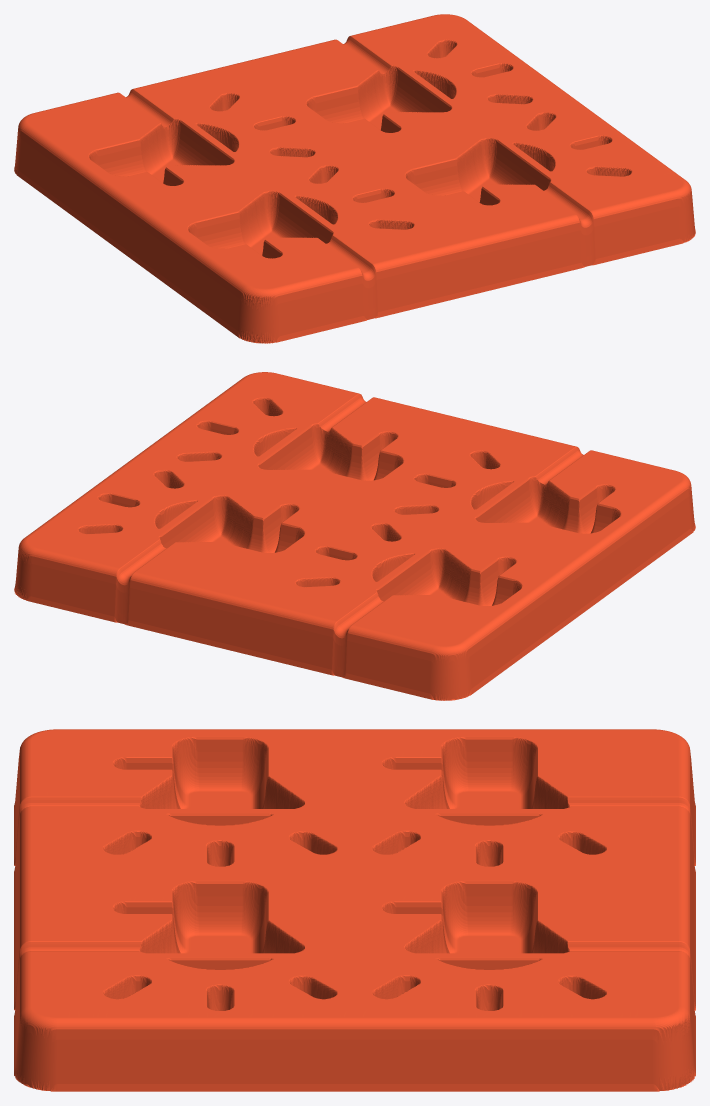
The model's file is mold.glb.
3 views of the same model, one above another, from view 1: azimuth 30°, elevation 25°; view 2: azimuth 150°, elevation 25°; view 3: azimuth 270°, elevation 25° (orthographic). The views are drawn at different scales.
Visible parts, largest first — view 1: geometry_0; view 2: geometry_0; view 3: geometry_0.
Boxes of the visible parts, x1,y1,x2,y2 form: geometry_0: (14,14,695,343); geometry_0: (14,372,695,700); geometry_0: (14,729,695,1091).
Bounding box in the file's own units: 0.1497 × 0.0155 × 0.1431.
